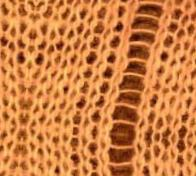slub: (109, 0, 166, 176)
